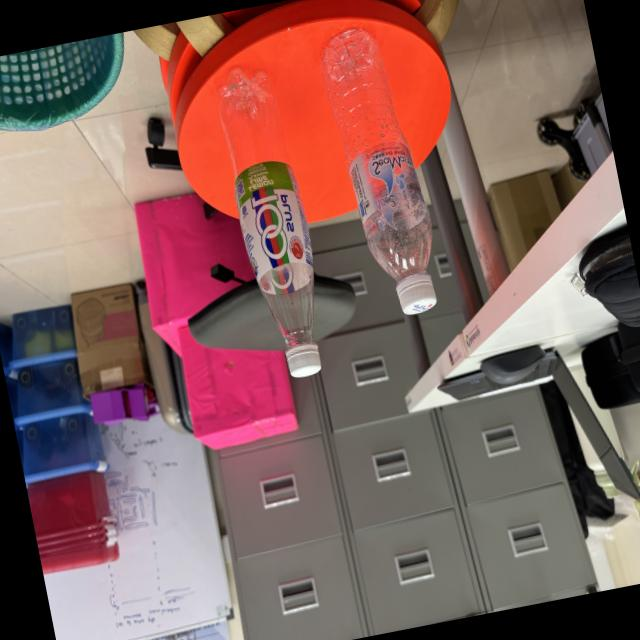plastic_bottle: (299, 0, 451, 336), (202, 57, 348, 400)
